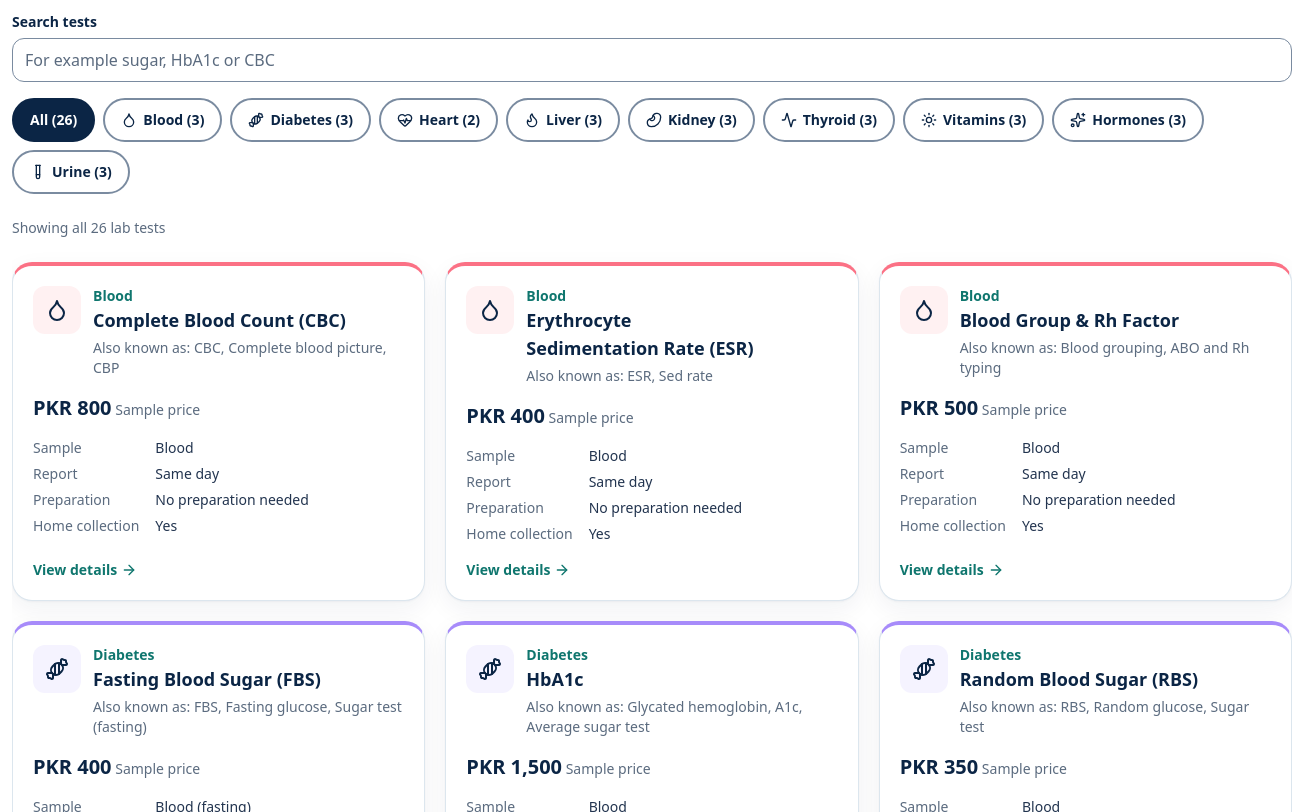
LabTestBrowser › shows the empty state, and Clear filters restores the whole catalog
Type "zzzz" into the search field labelled "Search tests". click: {"x": 652, "y": 60}
box: left=12, top=38, right=1292, bottom=82
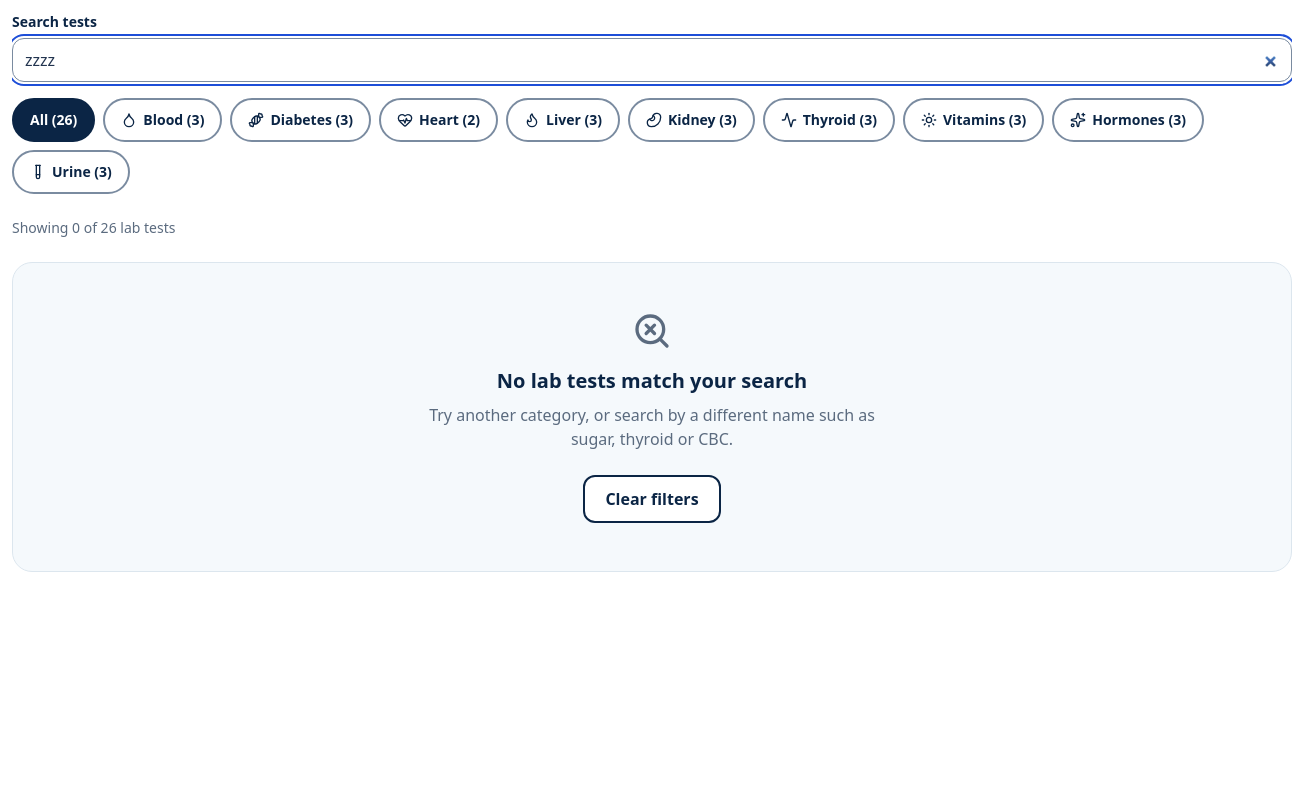
Expected: the text "No lab tests match your search" is shown, left=497, top=367, right=807, bottom=395
Click the button "Clear filters". click: {"x": 652, "y": 499}
box: left=583, top=475, right=721, bottom=523
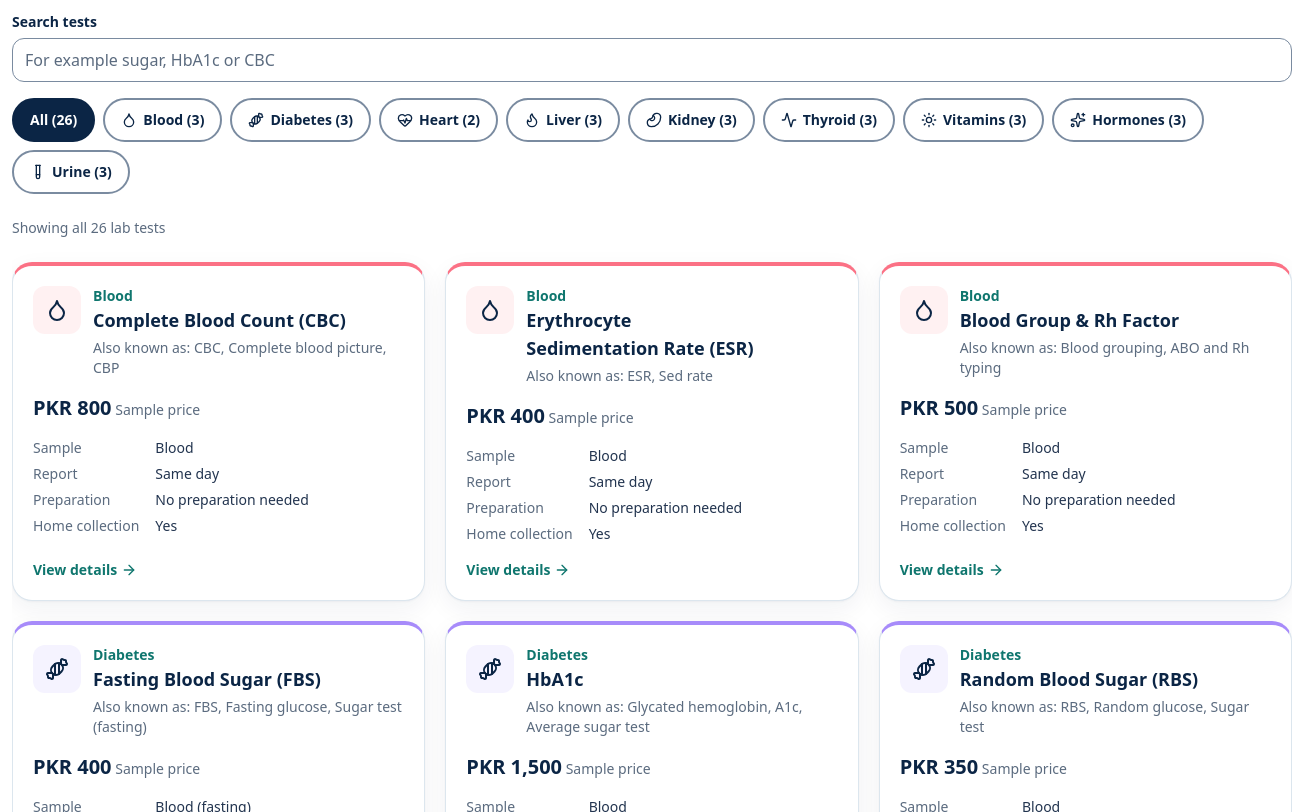
Expected: the search field labelled "Search tests" is empty, left=12, top=38, right=1292, bottom=82
